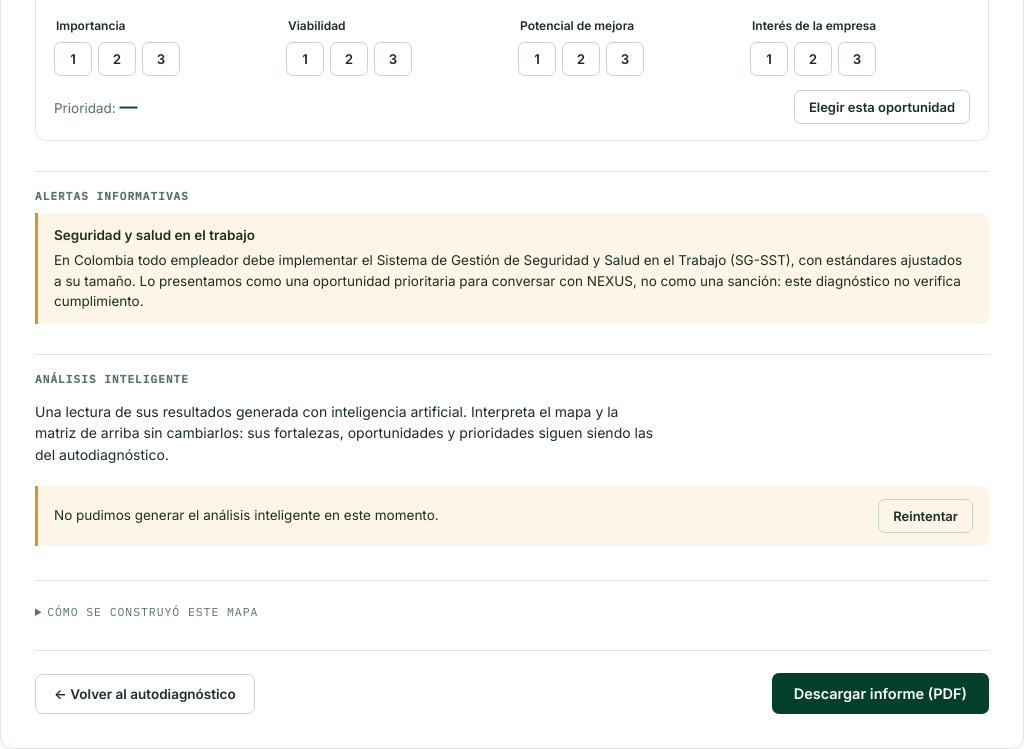
Test: sección «Análisis inteligente» en Resultados › si Gemini falla muestra un mensaje amable y permite reintentar
The width and height of the screenshot is (1024, 749).
(page scrolled)
Expected: the text "No pudimos generar el análisis inteligente en este momento." is shown, [54, 505, 439, 526]
Click the button "Descargar informe (PDF)" at (880, 694), box [772, 674, 989, 714]
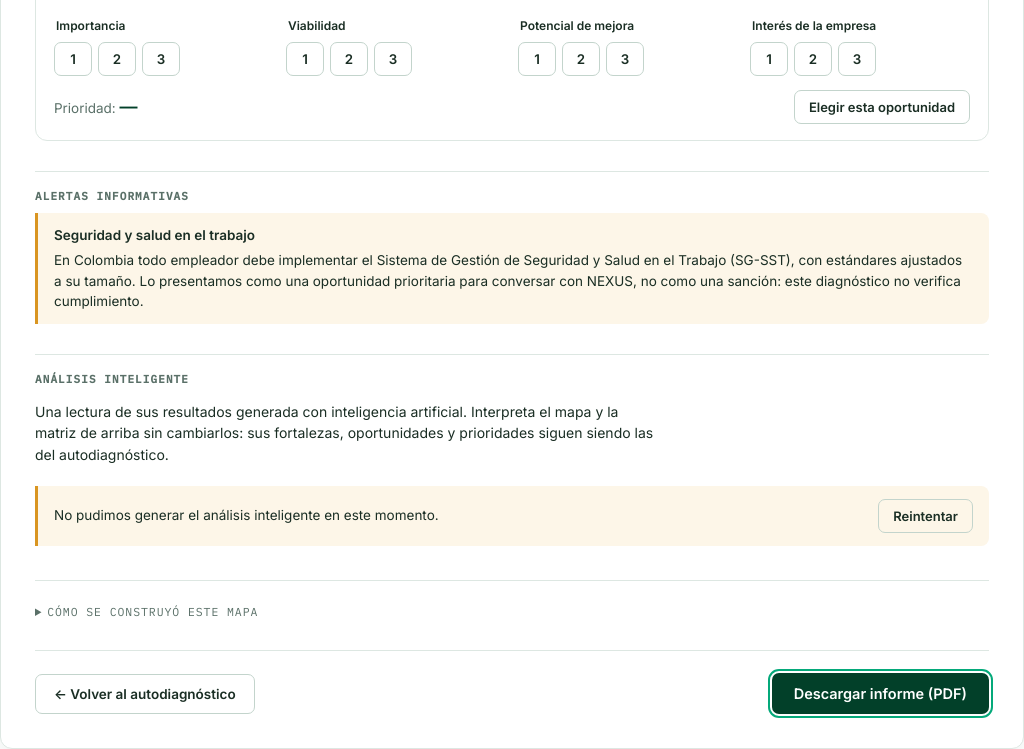
Click the button "Reintentar" at (926, 516), box [878, 499, 973, 533]
(page scrolled)
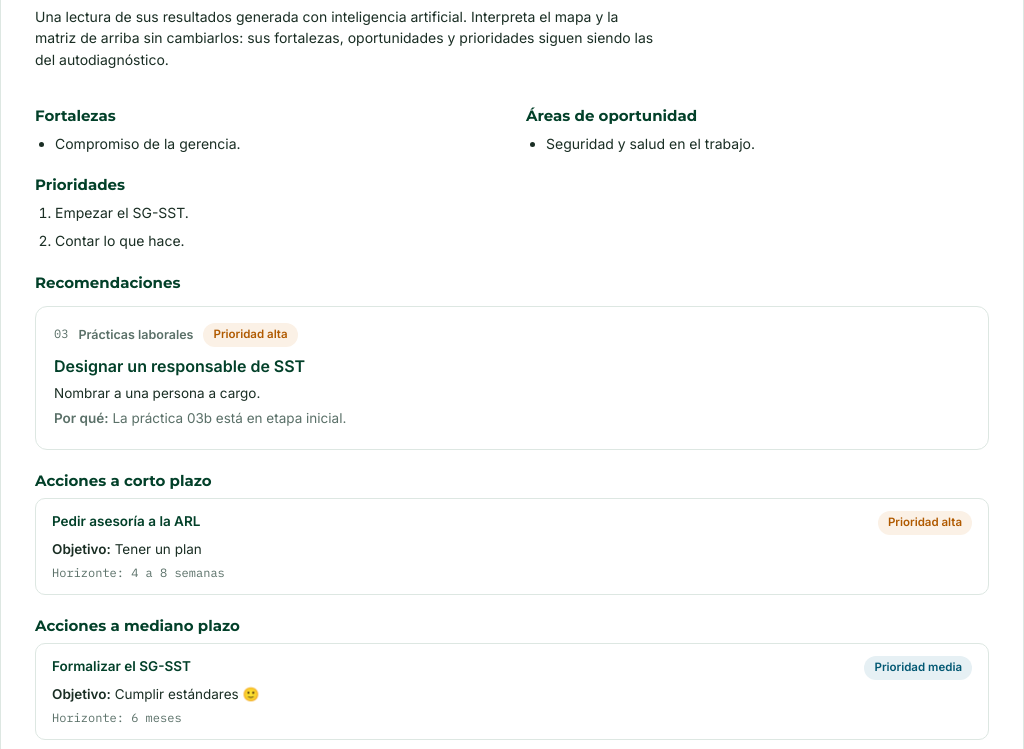
Expected: the heading "Designar un responsable de SST" is shown, [54, 356, 305, 376]
